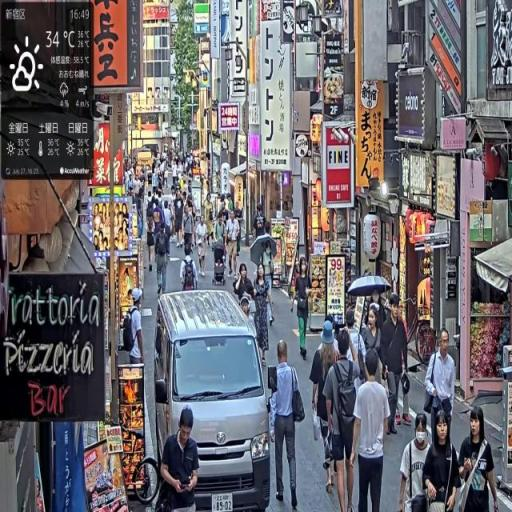person: (324, 331, 364, 512), (351, 350, 392, 512), (269, 340, 307, 512), (311, 319, 340, 492), (458, 407, 499, 512), (160, 407, 201, 512), (423, 409, 463, 511), (423, 328, 457, 448), (382, 296, 410, 439), (399, 411, 435, 512), (292, 259, 314, 363), (253, 263, 275, 356), (124, 287, 147, 371), (154, 215, 171, 300), (227, 211, 241, 280), (196, 215, 210, 278), (181, 247, 199, 294), (183, 203, 196, 257), (164, 199, 175, 260)
